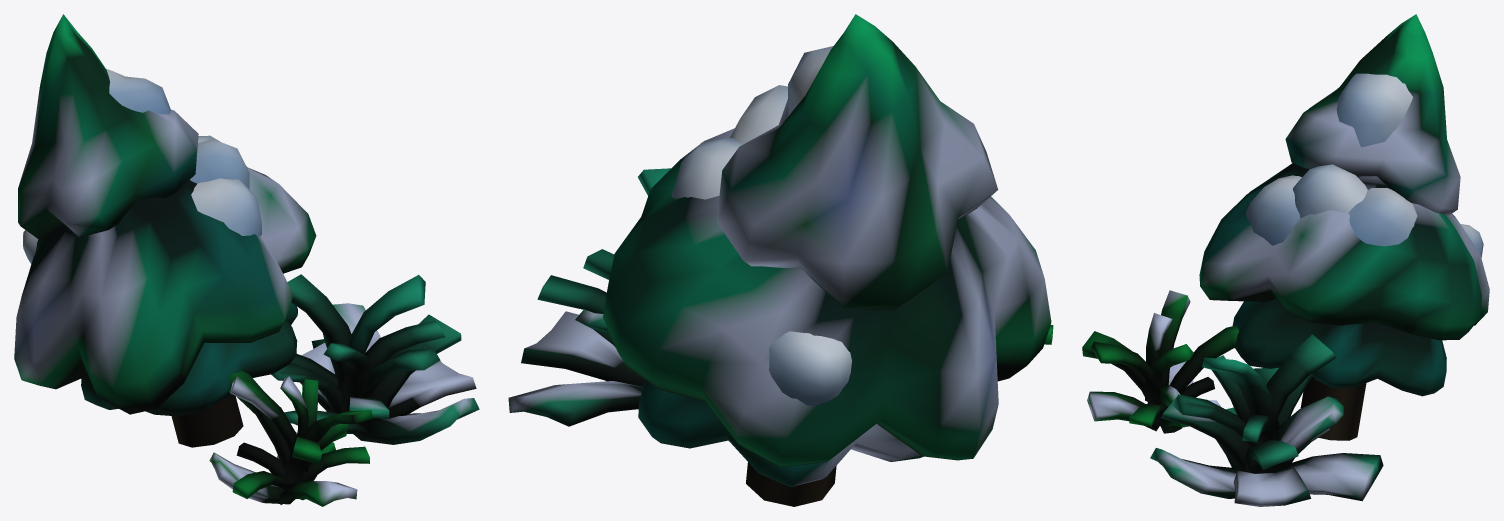
The model's file is Tree_011.fbx.
The picture shows the model from 3 angles, left to right: view 1: azimuth 30°, elevation 25°; view 2: azimuth 150°, elevation 25°; view 3: azimuth 270°, elevation 25°; orthographic projection. The views are drawn at different scales.
Visible parts, largest first — view 1: Tree_011; view 2: Tree_011; view 3: Tree_011.
Part boxes in pixels (x1,y1,x2,y2): Tree_011: [14, 14, 479, 506]; Tree_011: [508, 14, 1053, 506]; Tree_011: [1082, 14, 1489, 506].
Size of the model in its own units: 3386 by 3474 by 3372.
